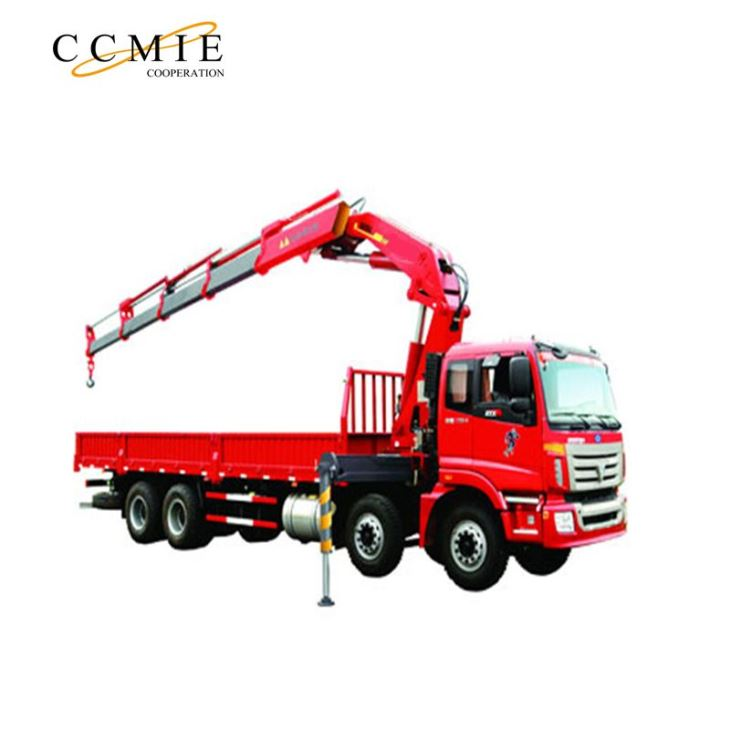crane: (64, 182, 643, 588)
